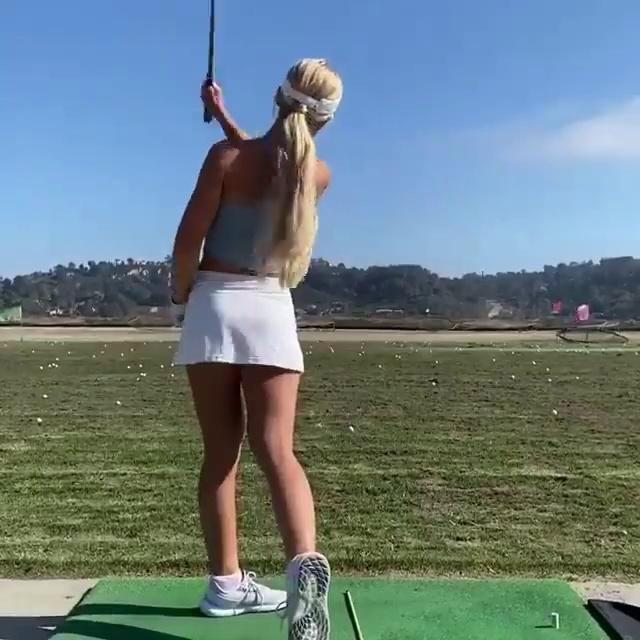ClubHandle: (203, 0, 215, 122)
